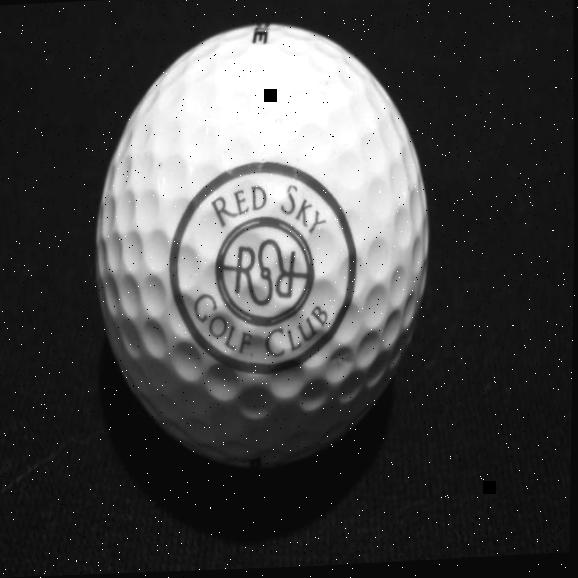GolfBall: (72, 0, 470, 492)
